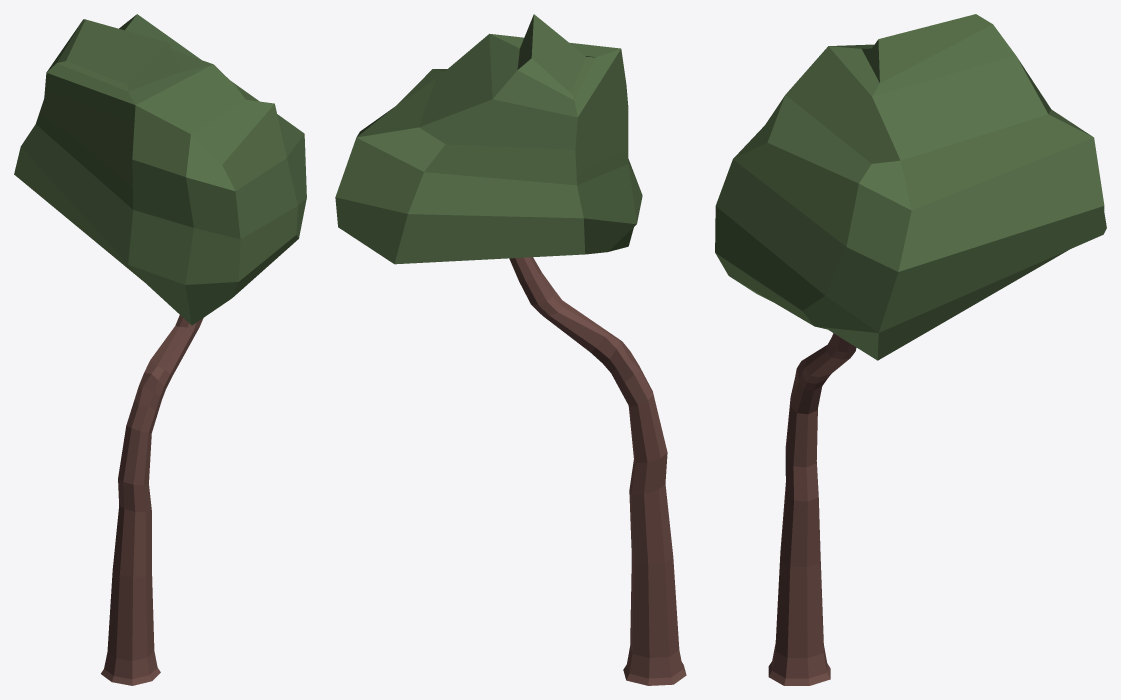
The model's file is orange_3.glb.
3 views of the same model, side by side, from view 1: azimuth 30°, elevation 25°; view 2: azimuth 150°, elevation 25°; view 3: azimuth 270°, elevation 25° (orthographic). The views are drawn at different scales.
Parts seen in each view (by area): view 1: Orange_3; view 2: Orange_3; view 3: Orange_3.
Boxes of the visible parts, <box> form: Orange_3: <box>14,14,306,685</box>; Orange_3: <box>335,14,686,685</box>; Orange_3: <box>715,14,1106,685</box>.
Bounding box in the file's own units: 0.9217 × 2.12 × 1.12.
